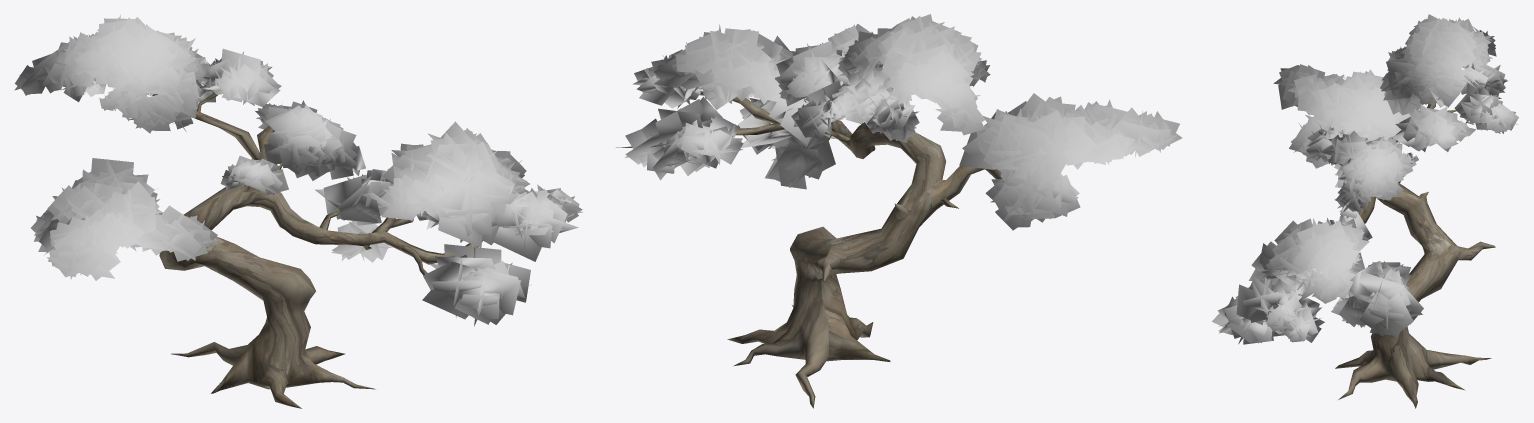
File: SM_Com_Tre_03AL.fbx
3 renders of one model, left to right at view 1: azimuth 30°, elevation 25°; view 2: azimuth 150°, elevation 25°; view 3: azimuth 270°, elevation 25°, orthographic. The views are drawn at different scales.
Visible parts, largest first — view 1: SM_Com_Tre_03AL.mo; view 2: SM_Com_Tre_03AL.mo; view 3: SM_Com_Tre_03AL.mo.
Boxes of the visible parts, x1,y1,x2,y2 form: SM_Com_Tre_03AL.mo: (14,14,582,408); SM_Com_Tre_03AL.mo: (616,14,1182,408); SM_Com_Tre_03AL.mo: (1212,14,1518,408).
Size of the model in its own units: 12.96 by 8.9 by 7.98.
